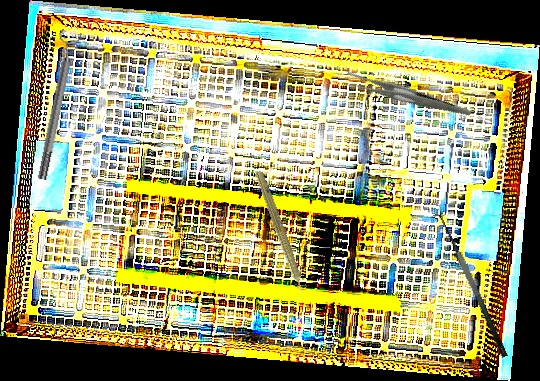Dressing Forceps: (341, 42, 472, 152)
Fixation Ring: (29, 28, 84, 182)
Handpiece: (249, 169, 313, 305)
Spatula Surgical: (427, 209, 509, 364)
